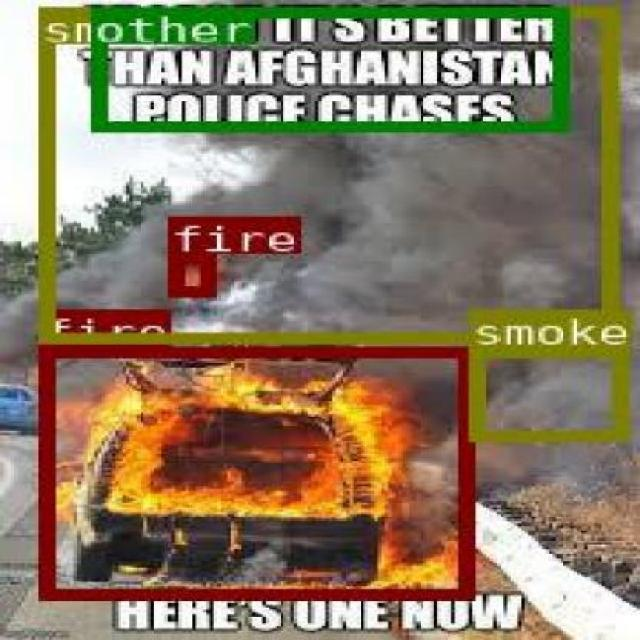Fire: (38, 345, 468, 598)
Smoke: (312, 137, 606, 289), (466, 346, 624, 439)
